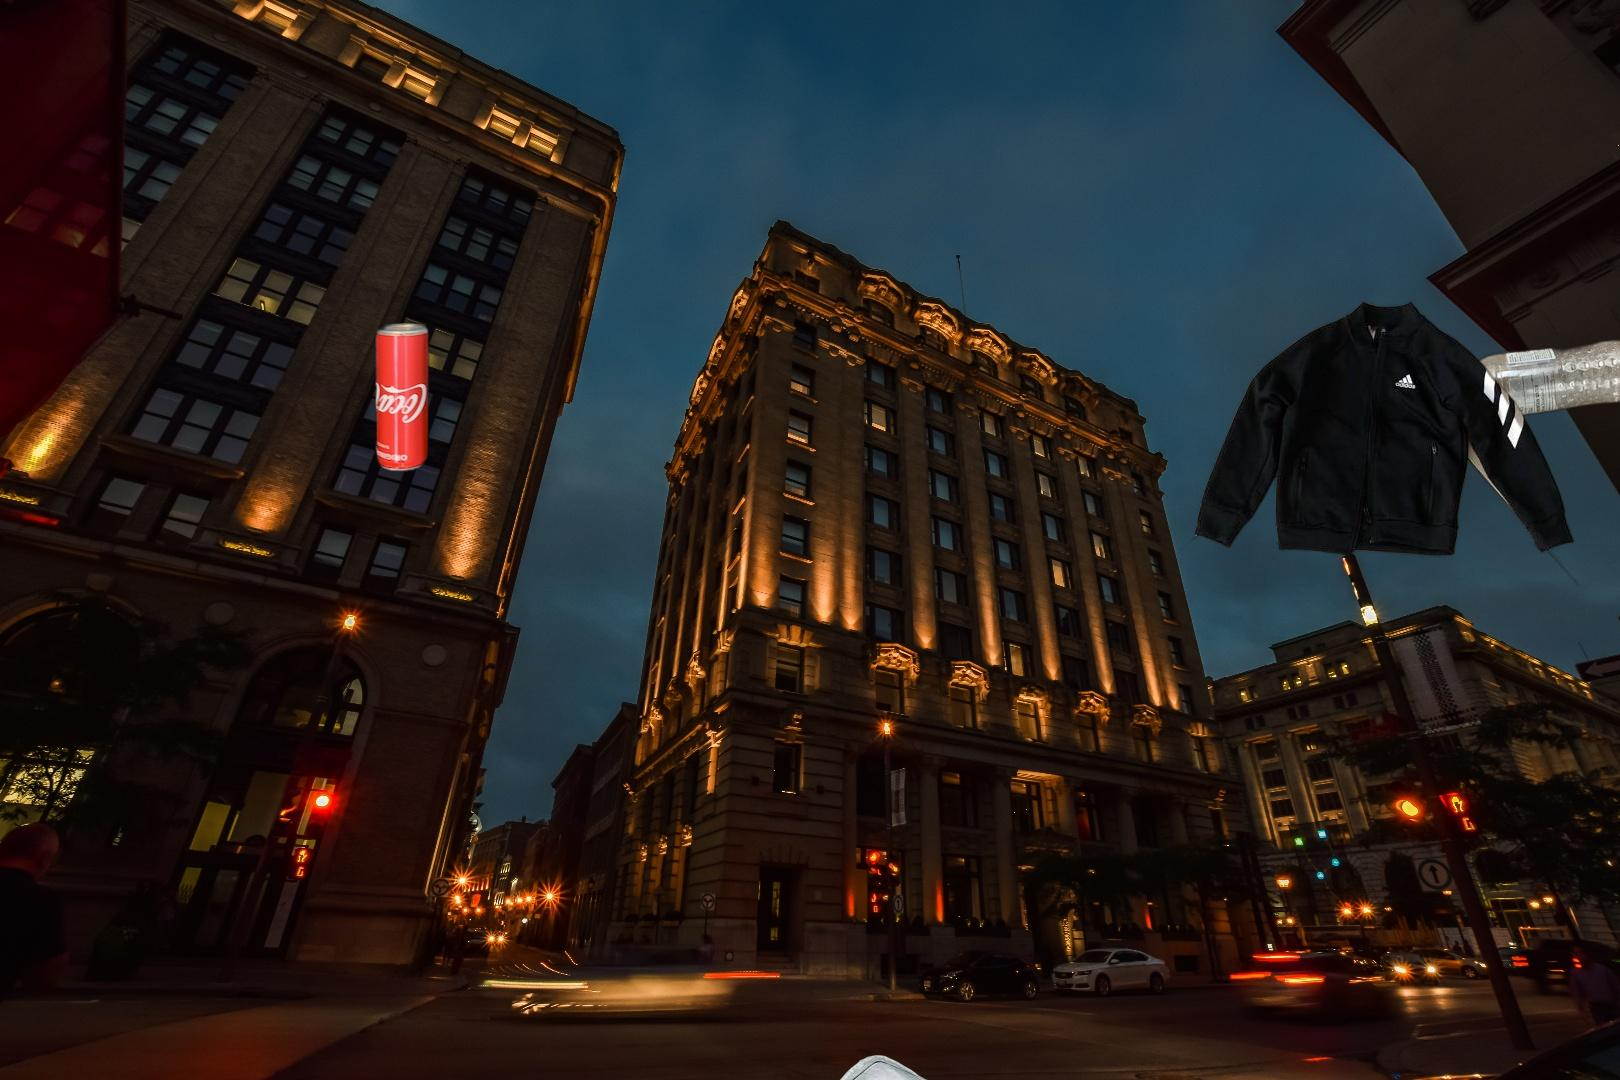clothes: (1179, 298, 1579, 589)
metal-cans: (366, 317, 433, 479)
plastic-bottles: (1439, 334, 1620, 423)
trash: (797, 1052, 990, 1080)
